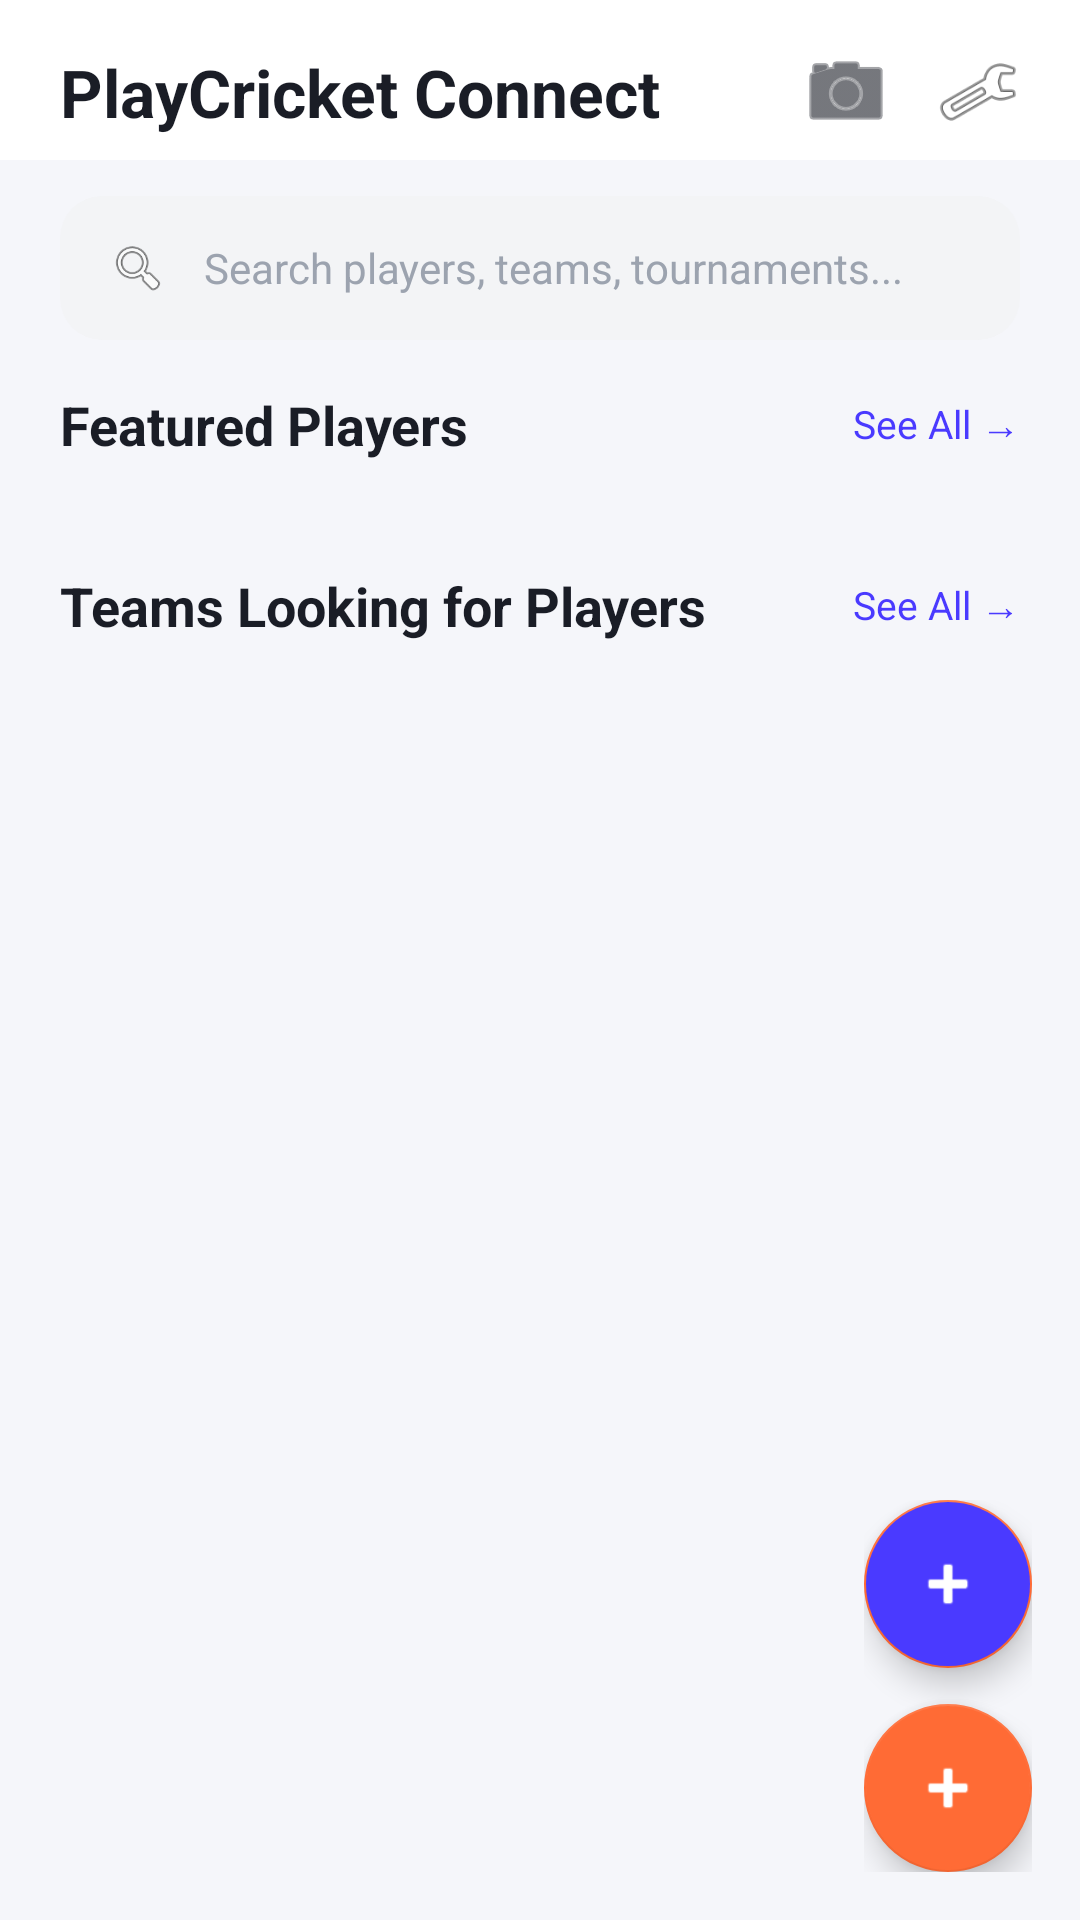

Screen size 1080 x 1920. Icon name, then its box in pixels as detection(x1, y1, x2, y2):
Add Player: detection(864, 1500, 1032, 1668)
Add Team: detection(864, 1704, 1032, 1872)
Scan QR: detection(809, 61, 883, 120)
Settings: detection(940, 63, 1016, 121)
